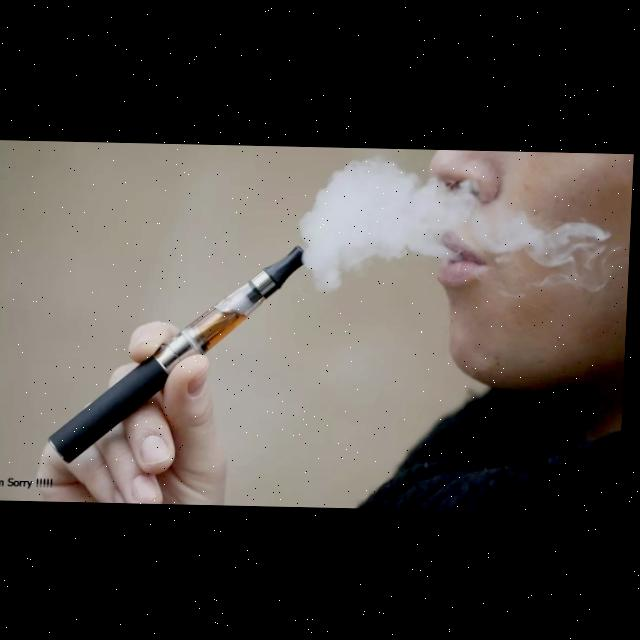vape: (52, 239, 306, 469)
